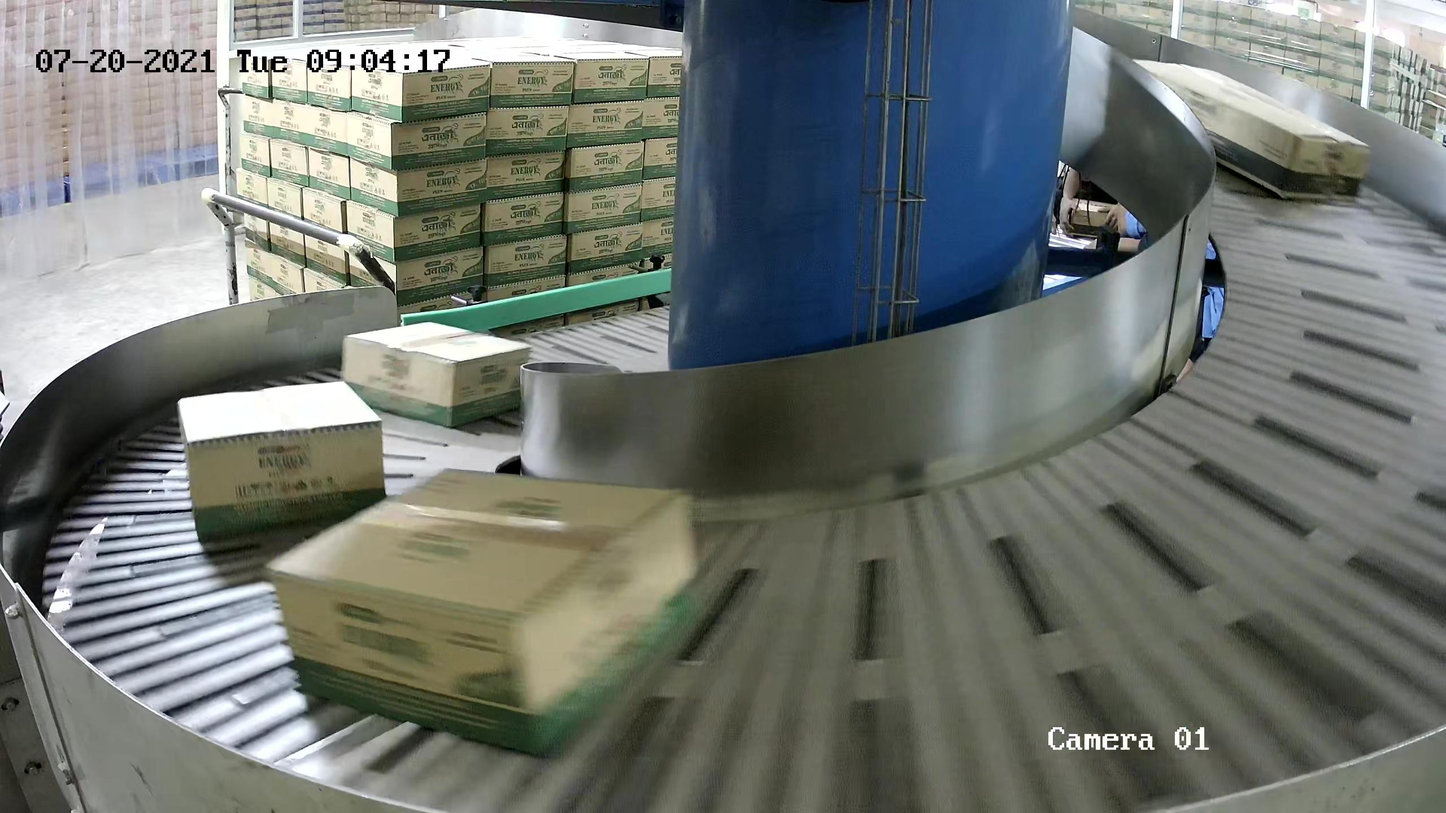Box: (270, 464, 712, 763), (1118, 58, 1372, 201), (177, 380, 388, 541), (341, 320, 531, 429)
